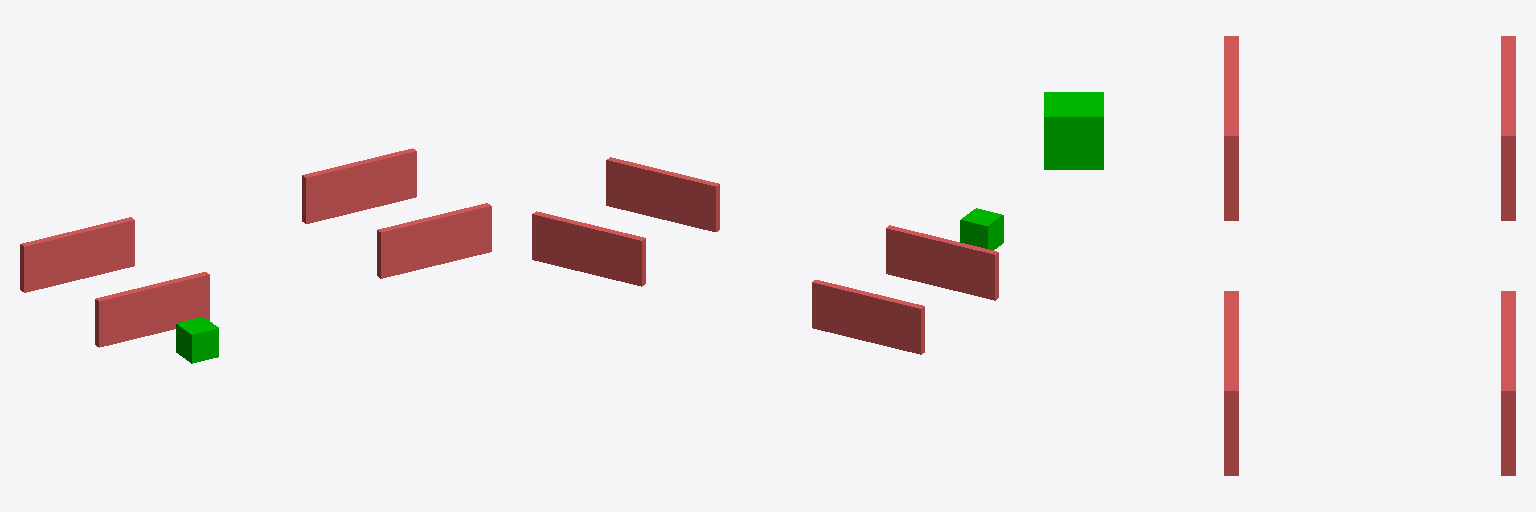
URDF robot description (maze2):
<?xml version="1.0"?>
  <robot name="maze2">
    <link name="base_link"/>

    <link name="table">
      <visual>
        <geometry>
          <mesh filename="file://[local-path]/Desktop/blenderFLEX/table_maze3.dae" scale = " 0.750 0.750 0.750"/>
        </geometry>
        <origin rpy="0 0 0" xyz="0 0 0" />

<material name = "">
          <color rgba="0.87450980392 0.87450980392 0.87058823529 1.0"/>
      </material>

      </visual>
      <collision>
        <geometry>
          <mesh filename="file://[local-path]/Desktop/blenderFLEX/table_maze3.dae" scale = " 0.750 0.750 0.750"/>
        </geometry>
        <origin rpy="0 0 0" xyz="0 0 0" />       
       </collision>
    </link>

    <link name="cube1">
      <visual>
        <geometry>
          <box size="0.1 0.1 0.1"/>
        </geometry>
        <origin rpy="0 0 0" xyz="0 0 0" />
      <material name = "">
          <color rgba="0.0 0.8 0.0 1.0"/>
      </material>
      </visual>
      <collision>
        <geometry>
          <box size="0.1 0.1 0.1"/>
        </geometry>
        <origin rpy="0 0 0" xyz="0 0 0" />       
       </collision>
    </link>


<link name ="cube_x"/>


     <link name="door1">
      <visual>
        <geometry>
          <box size="0.40 0.025 0.16"/>
        </geometry>
        <origin rpy="0 0 0" xyz="0.0 0.0 0" />
        <material name = "">
          <color rgba="0.91372549019 0.39215686274 0.39215686274 1.0"/>
        </material>
      </visual>
      <collision>
        <geometry>
          <box size="0.40 0.025 0.16"/>
        </geometry>
        <origin rpy="0 0 0" xyz="0.0 0.0 0" />
        </collision>
    </link>

     <link name="door2">
      <visual>
        <geometry>
          <box size="0.40 0.025 0.16"/>
        </geometry>
        <origin rpy="0 0 0" xyz="0.0 0.0 0" />
        <material name = "">
          <color rgba="0.91372549019 0.39215686274 0.39215686274 1.0"/>
        </material>
      </visual>
      <collision>
        <geometry>
          <box size="0.40 0.025 0.16"/>
        </geometry>
        <origin rpy="0 0 0" xyz="0.0 0.0 0" />
        </collision>
    </link>

     <link name="door3">
      <visual>
        <geometry>
          <box size="0.40 0.025 0.16"/>
        </geometry>
        <origin rpy="0 0 0" xyz="0.0 0.0 0" />
        <material name = "">
          <color rgba="0.91372549019 0.39215686274 0.39215686274 1.0"/>
        </material>
      </visual>
      <collision>
        <geometry>
          <box size="0.40 0.025 0.16"/>
        </geometry>
        <origin rpy="0 0 0" xyz="0.0 0.0 0" />
        </collision>
    </link>

         <link name="door4">
      <visual>
        <geometry>
          <box size="0.40 0.025 0.16"/>
        </geometry>
        <origin rpy="0 0 0" xyz="0.0 0.0 0" />
        <material name = "">
          <color rgba="0.91372549019 0.39215686274 0.39215686274 1.0"/>
        </material>
      </visual>
      <collision>
        <geometry>
          <box size="0.40 0.025 0.16"/>
        </geometry>
        <origin rpy="0 0 0" xyz="0.0 0.0 0" />
        </collision>
    </link>


<joint name="table_j" type="fixed">
    <origin rpy="0 0 0" xyz="0.9 -0.4 0.73" />
    <parent link="base_link" />
    <child link="table" />
    <axis xyz="0 1 0" />
  </joint>



<joint name="cube_joint" type="prismatic">
    <origin rpy="0 0 0" xyz="0.40 -0.9 0.86" />
    <parent link="base_link" />
    <child link="cube_x" />
   <axis xyz="1 0 0" />
  <limit lower="-0.17" upper="1.18" effort="0.05" velocity="1.57"/>
  </joint>


<joint name="cube_joint2" type="prismatic">
    <origin rpy="0 0 0" xyz="0.0 0 0.0" />
    <parent link="cube_x" />
    <child link="cube1" />
   <axis xyz="0 1 0" />
  <limit lower="-0.1" upper="1.11" effort="0.05" velocity="1.57"/>
  </joint>


    <joint name="door_joint1" type="prismatic">
        <origin rpy="0 0 0" xyz="0.39 -0.634 0.86"/>
        <parent link="base_link"/>
        <child link="door1"/>
        <axis xyz="1 0 0"/>
        <limit lower="0" upper="1.02" effort="5" velocity="1.57"/>
    </joint>

 <joint name="door_joint2" type="prismatic">
    <origin rpy="0 0 0" xyz="0.39 -0.166 0.86"/>
        <parent link="base_link"/>
        <child link="door2"/>
        <axis xyz="1 0 0"/>
        <limit lower="0" upper="1.02" effort="5" velocity="1.57"/>
  </joint>


    <joint name="door_joint3" type="prismatic">
        <origin rpy="0 0 0" xyz="1.41 -0.634 0.86"/>
        <parent link="base_link"/>
        <child link="door3"/>
        <axis xyz="-1 0 0"/>
        <limit lower="0" upper="1.02" effort="5" velocity="1.57"/>
    </joint>

 <joint name="door_joint4" type="prismatic">
    <origin rpy="0 0 0" xyz="1.41 -0.166 0.86"/>
        <parent link="base_link"/>
        <child link="door4"/>
        <axis xyz="-1 0 0"/>
        <limit lower="0" upper="1.02" effort="5" velocity="1.57"/>
  </joint>


</robot>

--- Render facts (derived) ---
The picture shows the robot from 3 angles, left to right: view 1: azimuth 30°, elevation 25°; view 2: azimuth 150°, elevation 25°; view 3: azimuth 270°, elevation 25°; orthographic projection.
Model maze2 with 8 links and 7 joints (6 prismatic, 1 fixed), rooted at base_link, posed all joints at 0.
Visible links, largest first — view 1: door3, door2, door4, door1, cube1; view 2: door3, door4, door1, door2, cube1; view 3: cube1, door1, door2, door3, door4.
Boxes of the visible links, bbox=[...] form: door3: bbox=[377, 203, 491, 278]; door2: bbox=[20, 217, 134, 292]; door4: bbox=[302, 148, 416, 223]; door1: bbox=[95, 272, 209, 347]; cube1: bbox=[176, 316, 218, 363]; door3: bbox=[606, 157, 719, 231]; door4: bbox=[532, 211, 645, 286]; door1: bbox=[886, 225, 998, 300]; door2: bbox=[812, 280, 924, 354]; cube1: bbox=[960, 208, 1003, 250]; cube1: bbox=[1044, 92, 1103, 169]; door1: bbox=[1224, 36, 1238, 220]; door2: bbox=[1501, 36, 1515, 220]; door3: bbox=[1224, 291, 1238, 475]; door4: bbox=[1501, 291, 1515, 475].
Size in the robot's own frame: 1.42 by 0.7965 by 0.16 metres.
Geometry: only primitive shapes (box / cylinder / sphere) drawn; not drawn: 1 mesh visual (reference in a form the renderer does not follow).